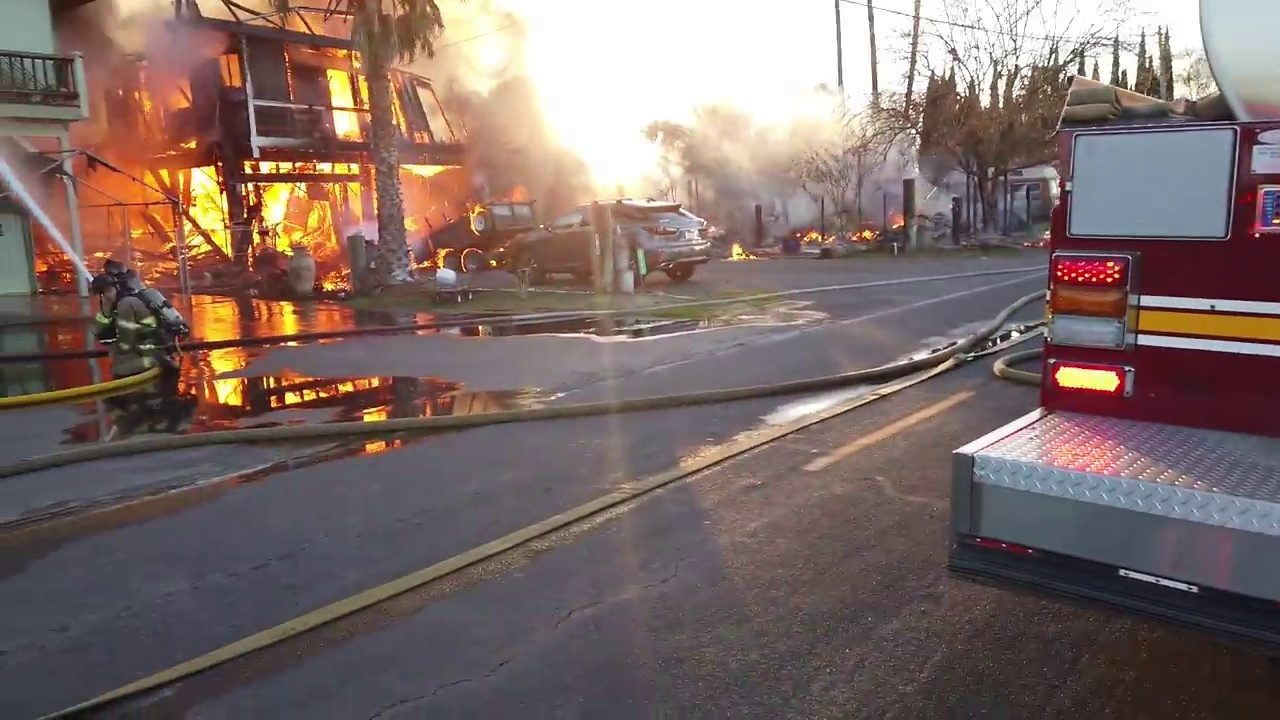fire: (246, 160, 347, 265), (107, 2, 227, 80), (583, 123, 686, 203), (192, 170, 229, 258), (322, 63, 364, 137), (410, 242, 451, 279), (154, 130, 198, 163), (144, 165, 186, 196), (466, 206, 501, 236), (216, 53, 245, 87), (402, 157, 454, 175), (457, 244, 482, 271), (320, 265, 348, 288), (725, 242, 760, 259), (798, 229, 835, 241), (852, 222, 879, 238), (506, 184, 527, 200), (891, 212, 904, 226)
smoke: (417, 1, 593, 203), (681, 85, 903, 211), (87, 92, 145, 256), (428, 1, 529, 78), (910, 172, 1023, 216), (343, 217, 380, 237)
